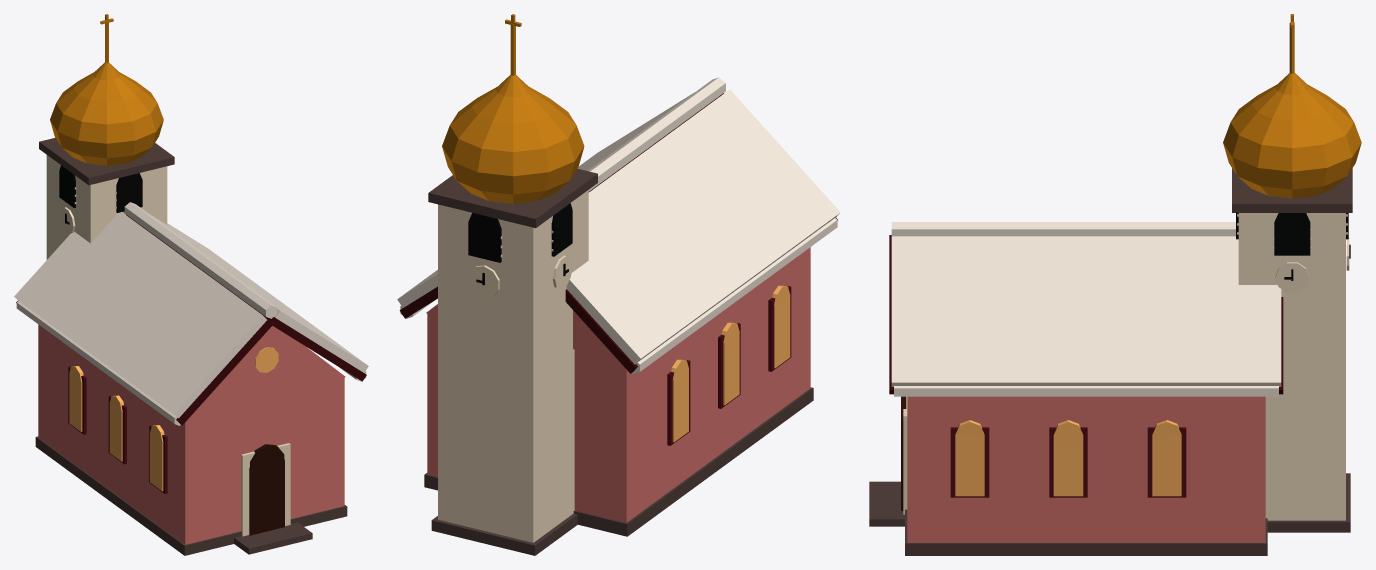
Rendered from rs_chapel.glb.
3 views of the same model, side by side, from view 1: azimuth 30°, elevation 25°; view 2: azimuth 150°, elevation 25°; view 3: azimuth 270°, elevation 25° (orthographic). The views are drawn at different scales.
Visible parts, largest first — view 1: chapel; view 2: chapel; view 3: chapel.
Boxes of the visible parts, x1,y1,x2,y2 form: chapel: [14, 14, 368, 555]; chapel: [397, 14, 840, 555]; chapel: [869, 14, 1361, 555].
Bounding box in the file's own units: 6.12 × 12.16 × 11.
